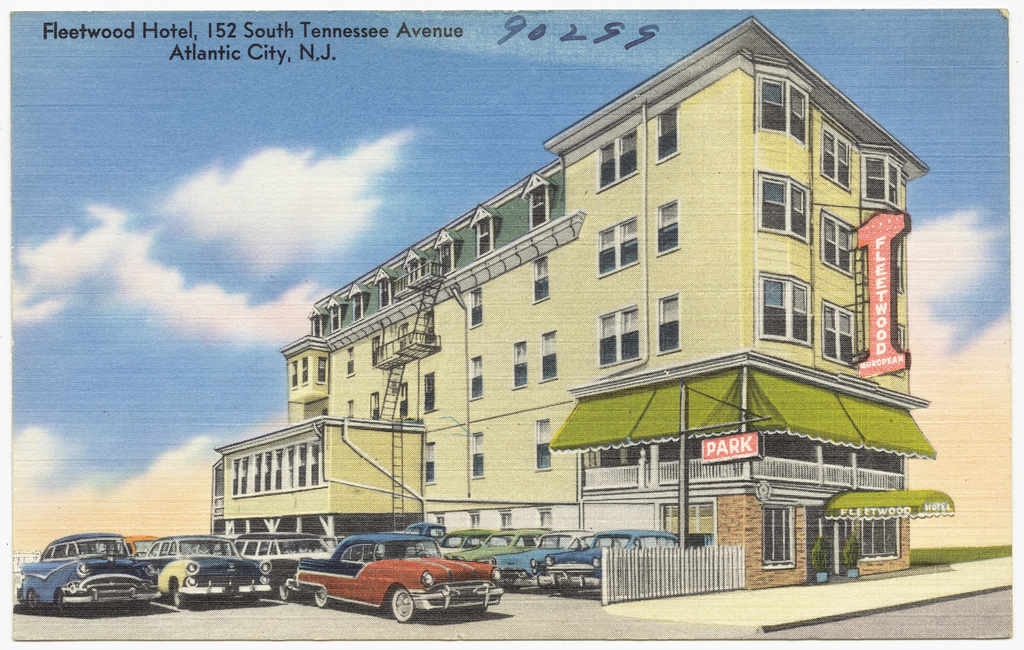car: (283, 531, 504, 623), (17, 532, 160, 609), (134, 534, 272, 605), (542, 529, 680, 586), (233, 532, 333, 597), (495, 531, 594, 586)
